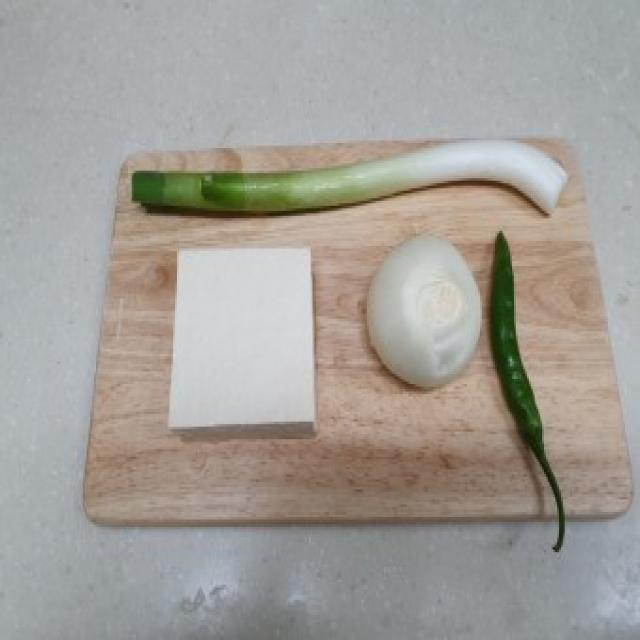onion: (369, 234, 484, 386)
